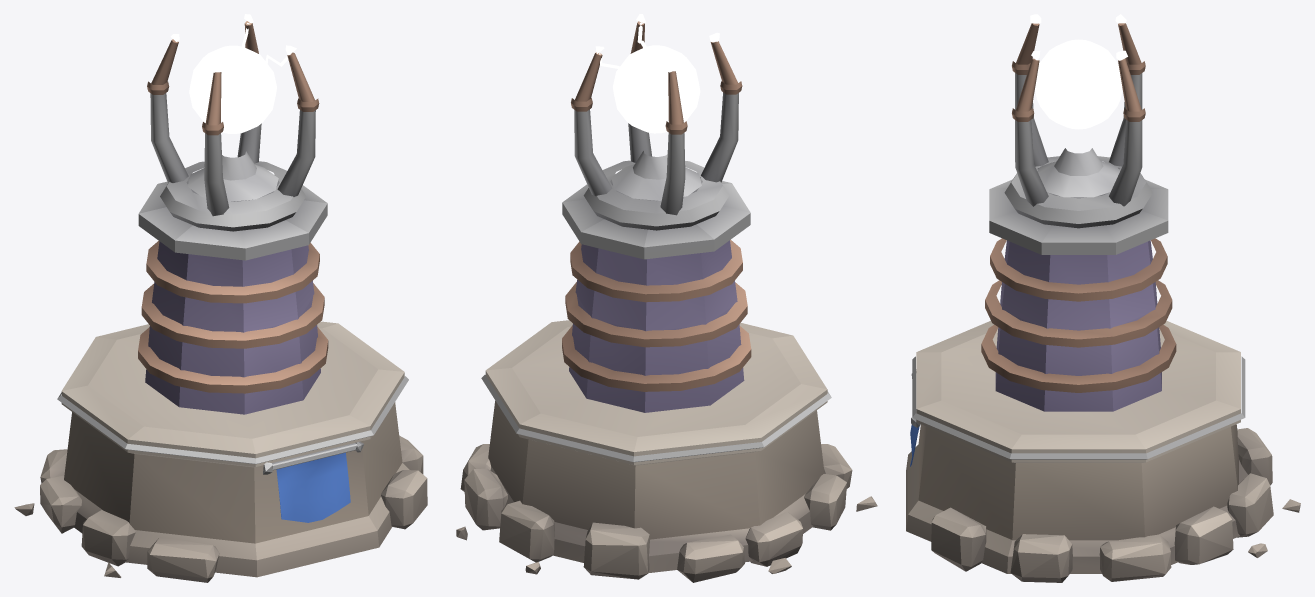
File: spark_0_1.glb
3 renders of one model, left to right at view 1: azimuth 30°, elevation 25°; view 2: azimuth 150°, elevation 25°; view 3: azimuth 270°, elevation 25°, orthographic.
Parts seen in each view (by area): view 1: Tower, Turret; view 2: Tower, Turret; view 3: Tower, Turret.
Part boxes in pixels (box(x1,y1,x2,y2)): Tower: box(14, 174, 427, 582); Turret: box(147, 14, 319, 231); Tower: box(456, 174, 877, 582); Turret: box(571, 14, 742, 230); Tower: box(906, 169, 1300, 582); Turret: box(1004, 14, 1152, 228).
Bounding box in the file's own units: 3.56 × 4.66 × 3.51.
